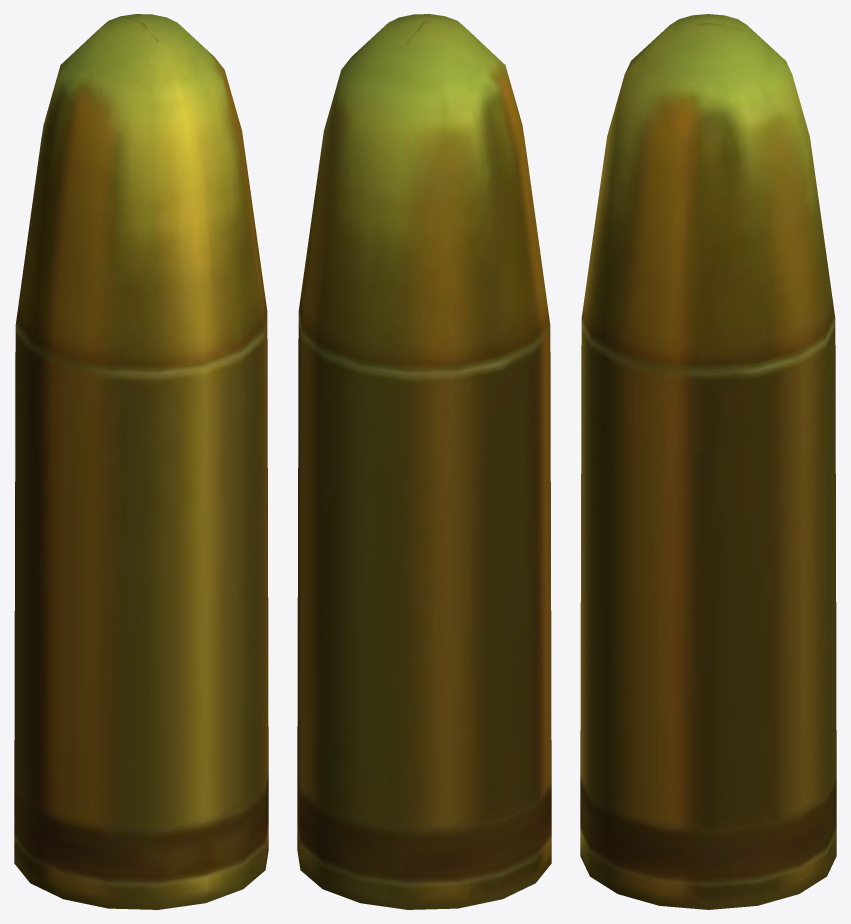
Rendered from bullet_medium.glb.
3 views of the same model, side by side, from view 1: azimuth 30°, elevation 25°; view 2: azimuth 150°, elevation 25°; view 3: azimuth 270°, elevation 25° (orthographic).
Parts seen in each view (by area): view 1: bullet1; view 2: bullet1; view 3: bullet1.
Part boxes in pixels (box(x1,y1,x2,y2)): bullet1: box(14, 14, 268, 909); bullet1: box(297, 14, 551, 909); bullet1: box(580, 14, 836, 909).
Size of the model in its own units: 0.00748 by 0.0268 by 0.00748.
Materials: 1 (1 with a texture image).
